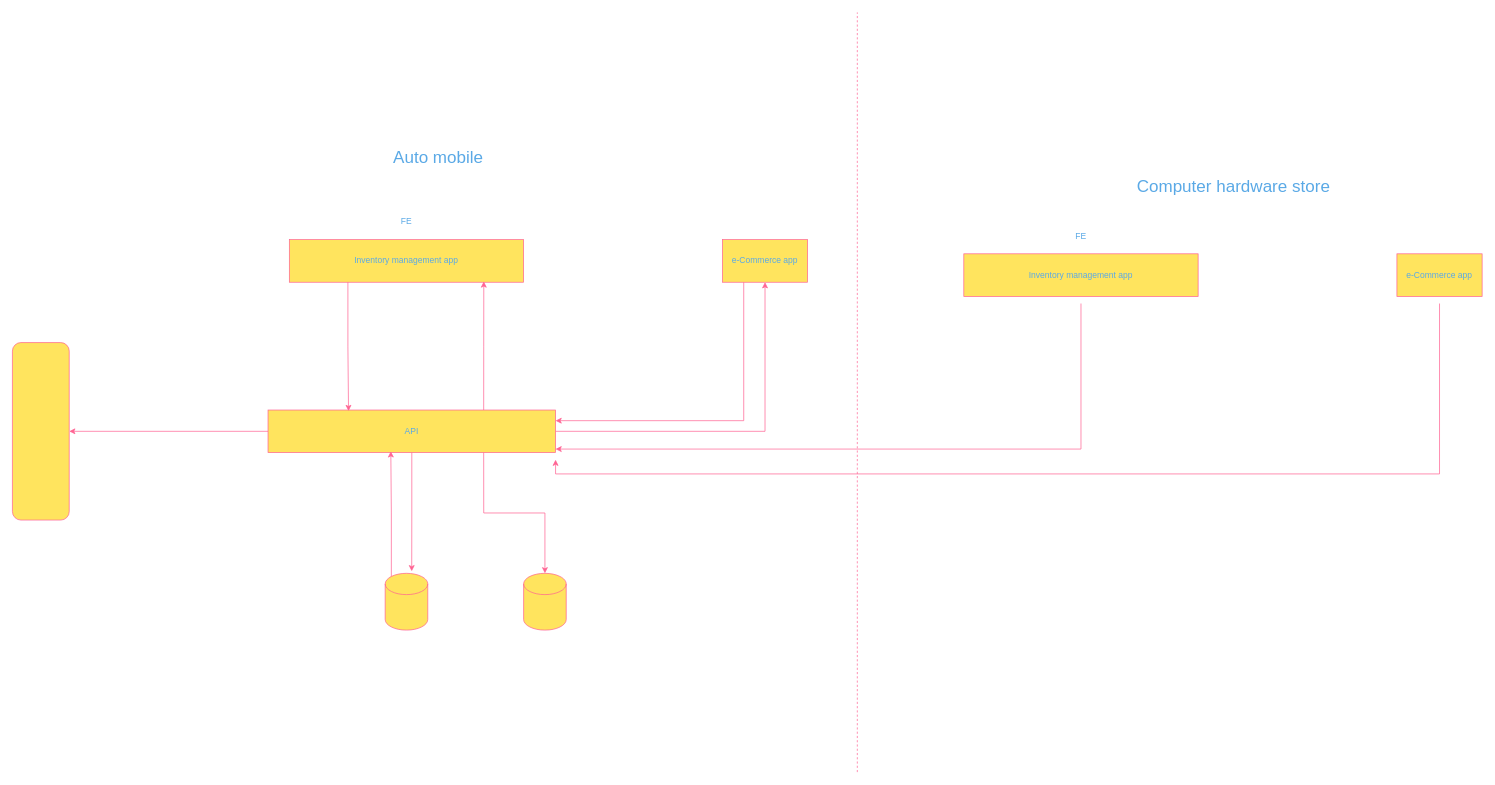
The diagram is 1495 pixels wide and 785 high, and some of its shapes have lost their labels. Here are the shapes that lost their labels. From the top down, the box of each, then its label:
(12, 342, 69, 520): Mobile app
(384, 573, 428, 630): Database
